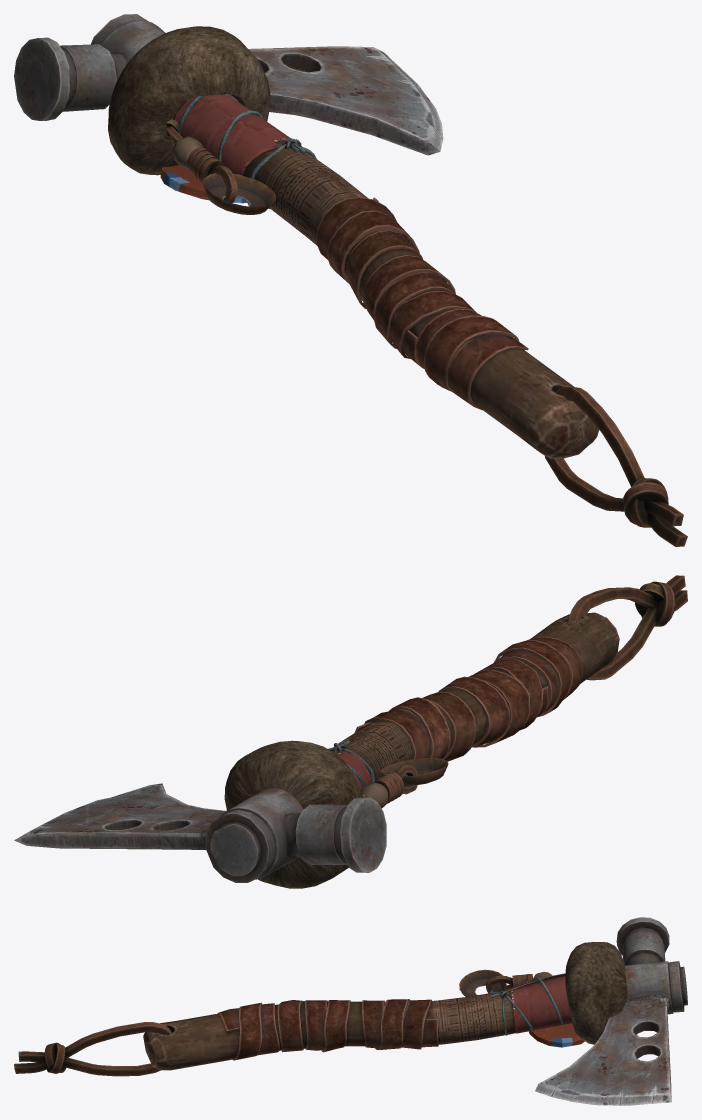
Rendered from frontier_hatchet.entity.glb.
3 views of the same model, one above another, from view 1: azimuth 30°, elevation 25°; view 2: azimuth 150°, elevation 25°; view 3: azimuth 270°, elevation 25° (orthographic). The views are drawn at different scales.
Parts seen in each view (by area): view 1: w_FrontierHatchet_LOD0; view 2: w_FrontierHatchet_LOD0; view 3: w_FrontierHatchet_LOD0.
Part boxes in pixels (bbox=[...]): w_FrontierHatchet_LOD0: bbox=[14, 14, 687, 546]; w_FrontierHatchet_LOD0: bbox=[14, 575, 687, 888]; w_FrontierHatchet_LOD0: bbox=[14, 917, 687, 1105].
Bounding box in the file's own units: 0.2061 × 0.1009 × 0.5047.
3 materials, 3 textured.
